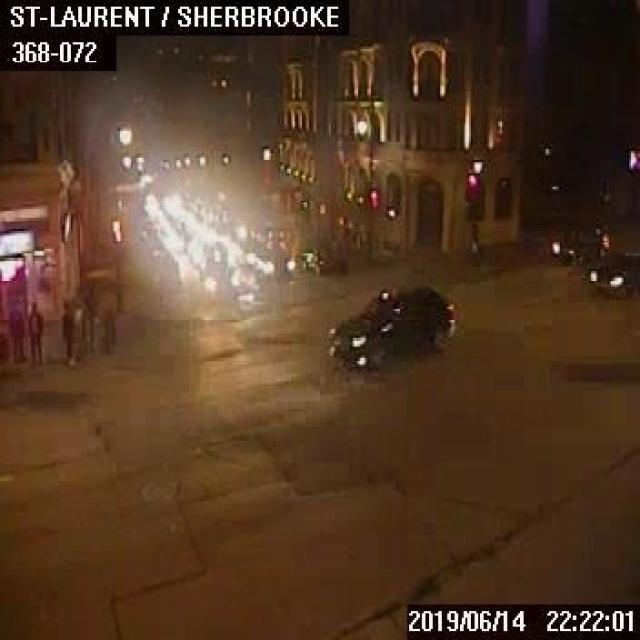pedestrian: (26, 298, 44, 362), (8, 299, 25, 361), (58, 300, 73, 360), (100, 303, 114, 353)
vehicle: (325, 282, 451, 364), (585, 248, 638, 296), (548, 223, 610, 264), (199, 259, 239, 298), (256, 244, 292, 278), (295, 245, 333, 272)
